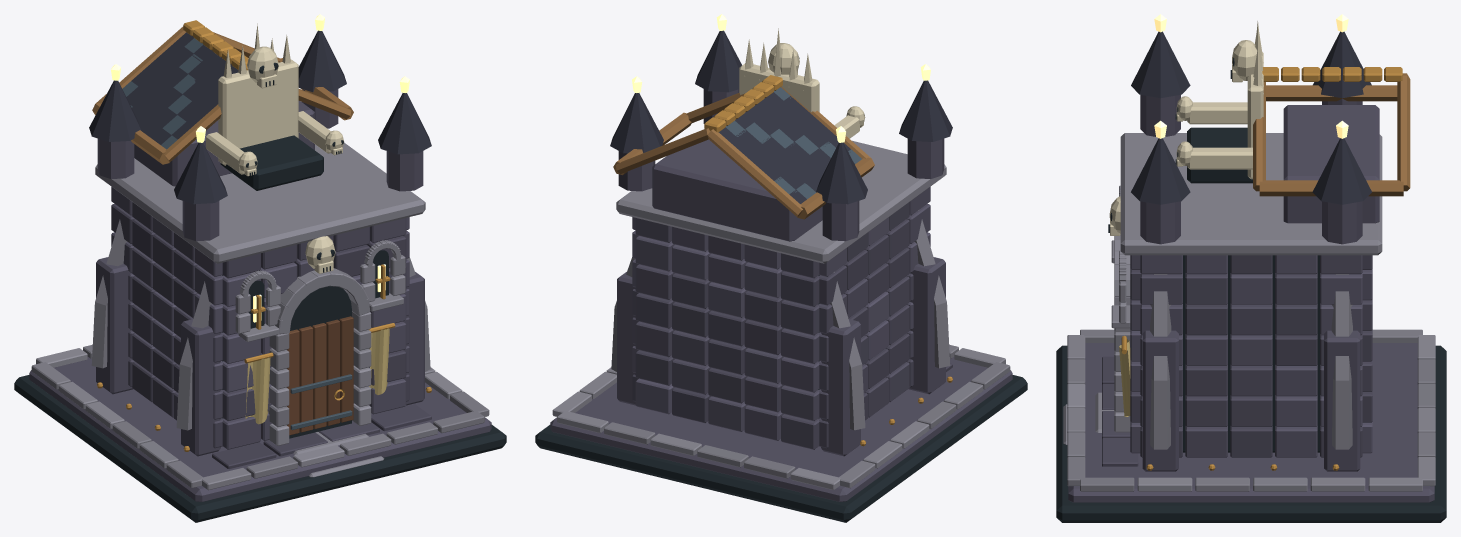
Rendered from necro__senhor__L05.glb.
3 renders of one model, left to right at view 1: azimuth 30°, elevation 25°; view 2: azimuth 150°, elevation 25°; view 3: azimuth 270°, elevation 25°, orthographic. The views are drawn at different scales.
Parts seen in each view (by area): view 1: structure, weapon, banners; view 2: structure, weapon; view 3: structure, weapon, banners.
Part boxes in pixels (x1,y1,x2,y2): structure: (14,14,506,522); weapon: (206,23,344,190); banners: (244,323,395,424); structure: (535,14,1027,522); weapon: (739,28,865,138); structure: (1056,14,1446,522); weapon: (1175,21,1263,183); banners: (1119,335,1130,416).
Bounding box in the file's own units: 0.803 × 0.9614 × 0.803.
